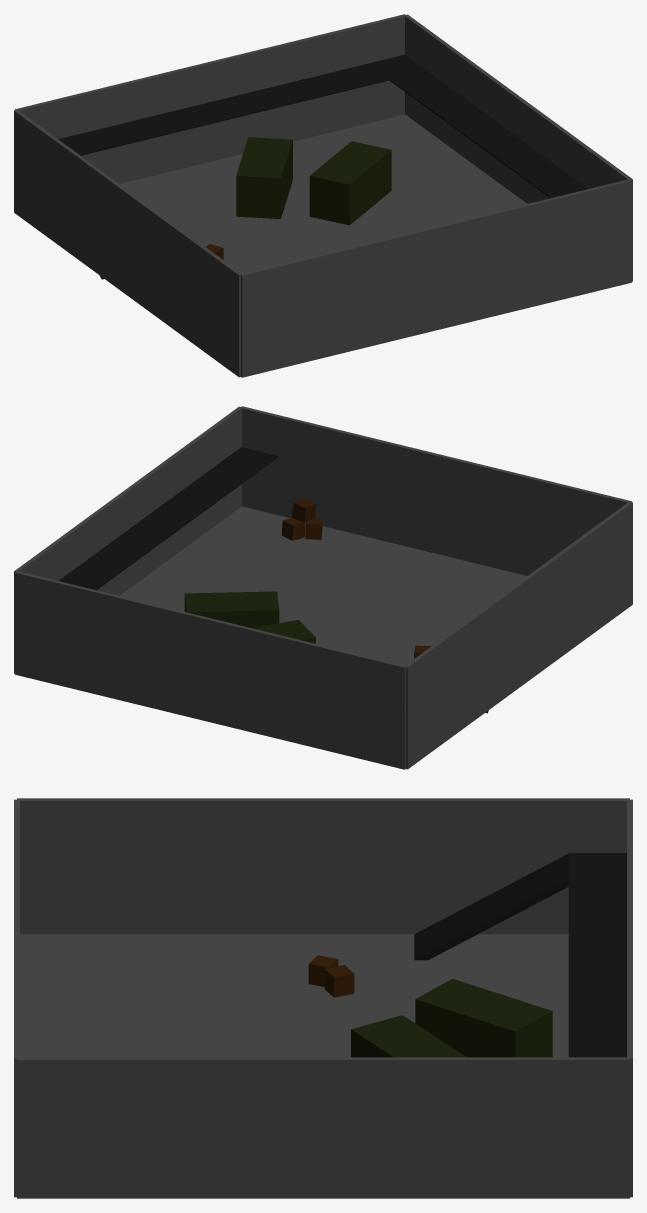
Rendered from PrisonScape.obj.
3 views of the same model, one above another, from view 1: azimuth 30°, elevation 25°; view 2: azimuth 150°, elevation 25°; view 3: azimuth 270°, elevation 25° (orthographic). The views are drawn at different scales.
Parts seen in each view (by area): view 1: Cube.004_Cube.006, Cube.003_Cube.005, Cube_Cube.001, Cube.001_Cube.004, Cube.002_Cube.003, Cube.005_Cube.007, Cube.006_Cube.008, Cube.014_Cube.016, Cube.013_Cube.015; view 2: Cube.003_Cube.005, Cube.004_Cube.006, Cube_Cube.001, Cube.001_Cube.004, Cube.002_Cube.003, Cube.006_Cube.008, Cube.014_Cube.016, Cube.013_Cube.015; view 3: Cube.002_Cube.003, Cube.001_Cube.004, Cube_Cube.001, Cube.005_Cube.007, Cube.013_Cube.015, Cube.007_Cube.009, Cube.014_Cube.016, Cube.003_Cube.005, Cube.004_Cube.006, Cube.009_Cube.011, Cube.008_Cube.010.
Part boxes in pixels (x1,y1,x2,y2): Cube.004_Cube.006: [240, 179, 632, 377]; Cube.003_Cube.005: [14, 14, 406, 183]; Cube_Cube.001: [120, 114, 526, 273]; Cube.001_Cube.004: [14, 110, 241, 377]; Cube.002_Cube.003: [404, 14, 632, 281]; Cube.005_Cube.007: [58, 54, 425, 155]; Cube.006_Cube.008: [370, 55, 587, 198]; Cube.014_Cube.016: [309, 141, 391, 225]; Cube.013_Cube.015: [236, 137, 292, 218]; Cube.003_Cube.005: [14, 571, 406, 769]; Cube.004_Cube.006: [241, 406, 632, 575]; Cube_Cube.001: [120, 506, 526, 665]; Cube.001_Cube.004: [405, 502, 632, 769]; Cube.002_Cube.003: [14, 406, 242, 673]; Cube.006_Cube.008: [59, 447, 278, 590]; Cube.014_Cube.016: [184, 591, 279, 627]; Cube.013_Cube.015: [251, 619, 315, 643]; Cube.002_Cube.003: [17, 1057, 629, 1198]; Cube.001_Cube.004: [17, 798, 629, 934]; Cube_Cube.001: [20, 934, 568, 1057]; Cube.005_Cube.007: [568, 853, 626, 1057]; Cube.013_Cube.015: [415, 978, 552, 1057]; Cube.007_Cube.009: [414, 853, 568, 960]; Cube.014_Cube.016: [351, 1015, 466, 1057]; Cube.003_Cube.005: [627, 799, 632, 1197]; Cube.004_Cube.006: [14, 799, 19, 1197]; Cube.009_Cube.011: [324, 965, 354, 997]; Cube.008_Cube.010: [308, 955, 338, 986].
Bounding box in the file's own units: 20.2 × 5.31 × 20.2.
